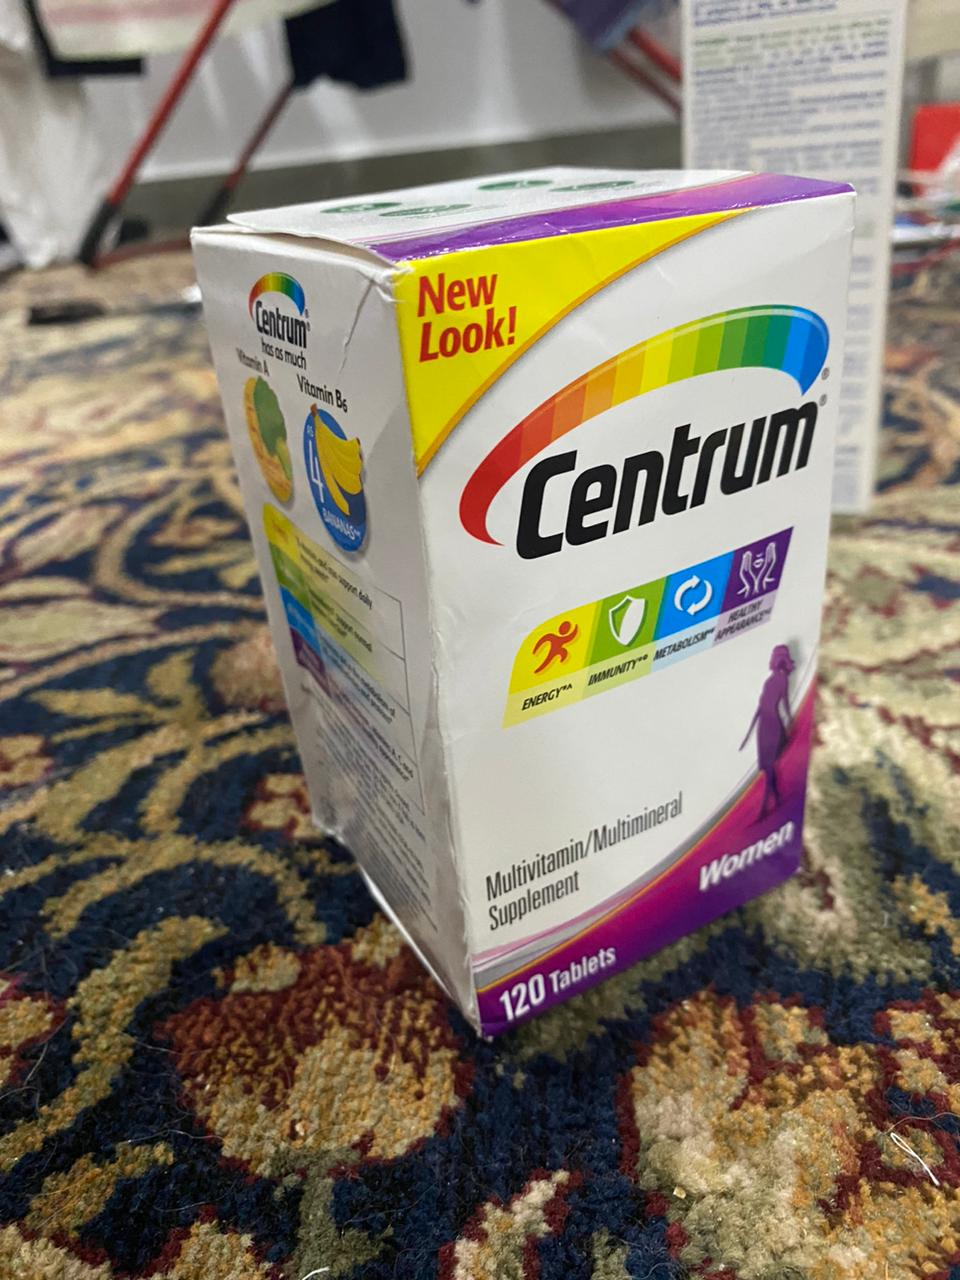Centrum: (179, 167, 861, 1049)
Physiomer: (679, 1, 894, 194)
